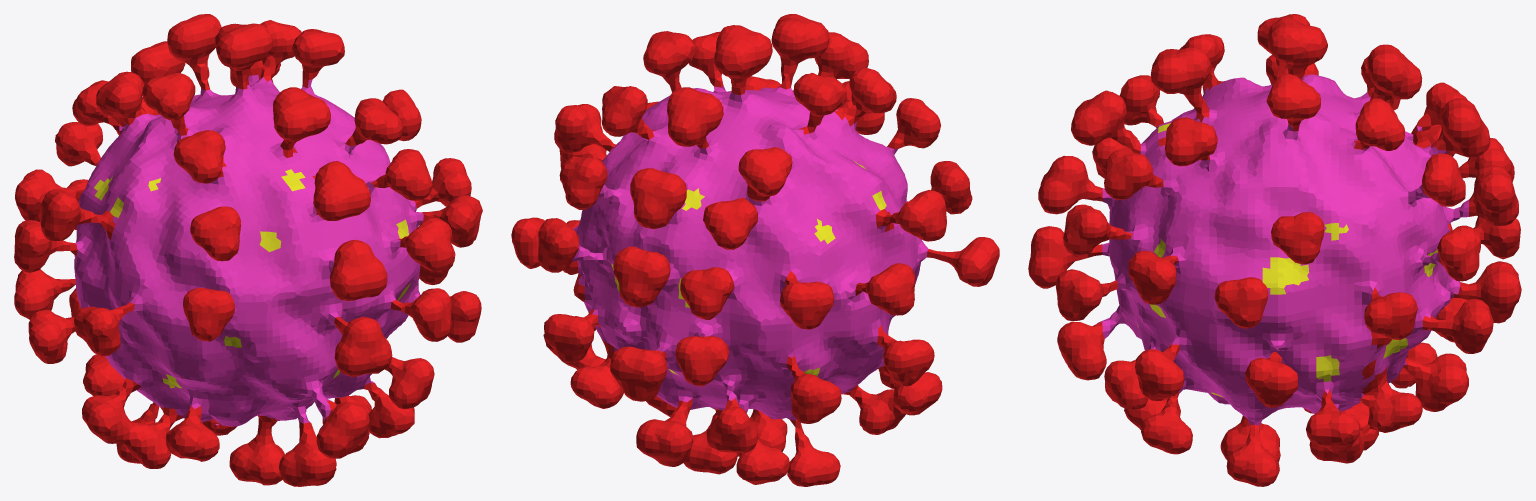
File: covid-19.fbx
The picture shows the model from 3 angles, left to right: view 1: azimuth 30°, elevation 25°; view 2: azimuth 150°, elevation 25°; view 3: azimuth 270°, elevation 25°; orthographic projection.
Visible parts, largest first — view 1: covid-19; view 2: covid-19; view 3: covid-19.
Part boxes in pixels (left/top/right/bottom): covid-19: left=14, top=14, right=482, bottom=486; covid-19: left=511, top=14, right=999, bottom=486; covid-19: left=1028, top=14, right=1521, bottom=486.
Size of the model in its own units: 1.31 by 1.35 by 1.36.
